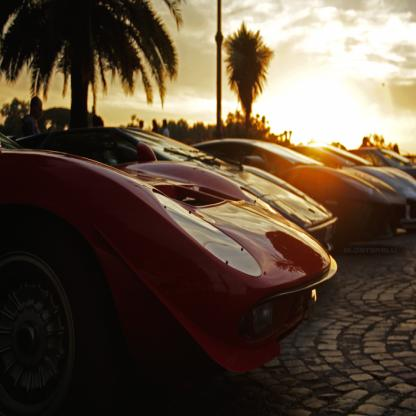Car: (1, 126, 416, 416)
